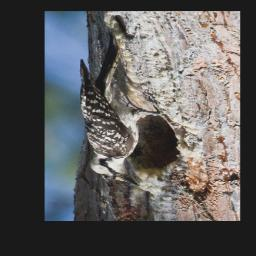Woodpecker: (72, 29, 162, 190)
